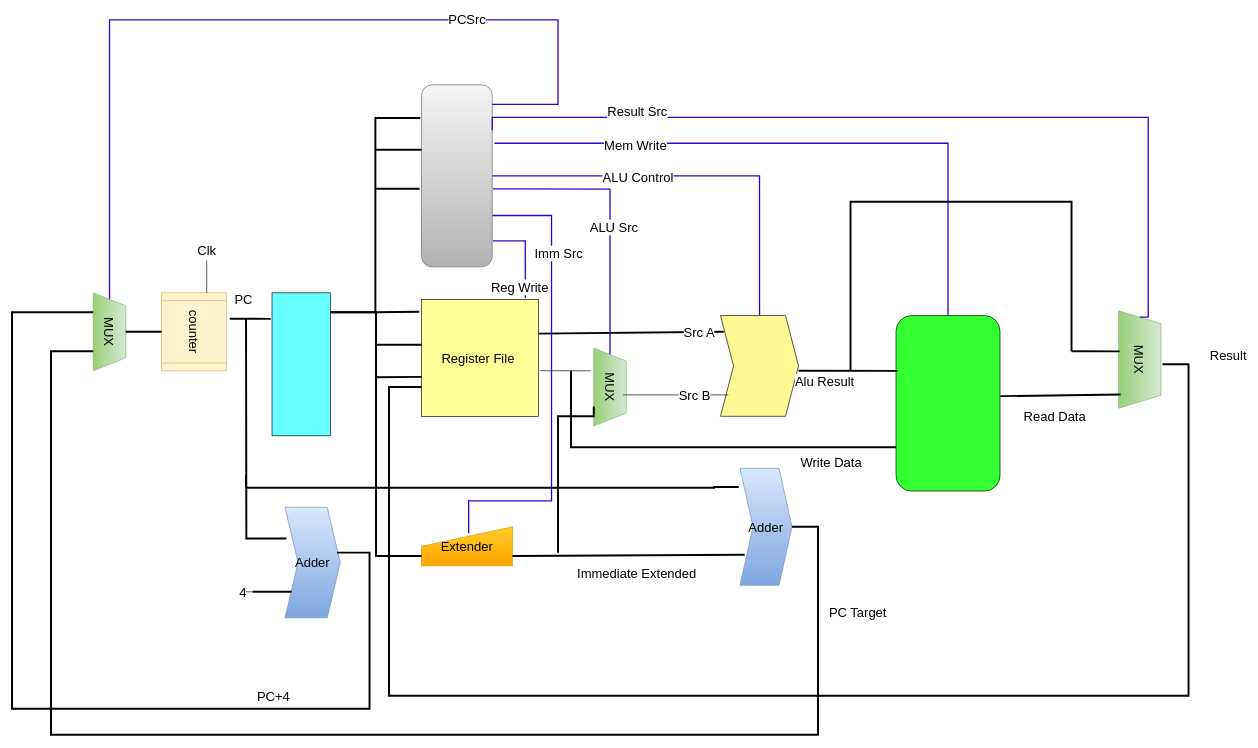
Image size: 1258x748. Some labels were removed from this diagram. The centre of each missing label's shape, as x and y in pixels:
ALU: point (759, 365)
Control Unit: point (456, 175)
Data Memory: point (947, 403)
Instruction Memory: point (301, 364)
